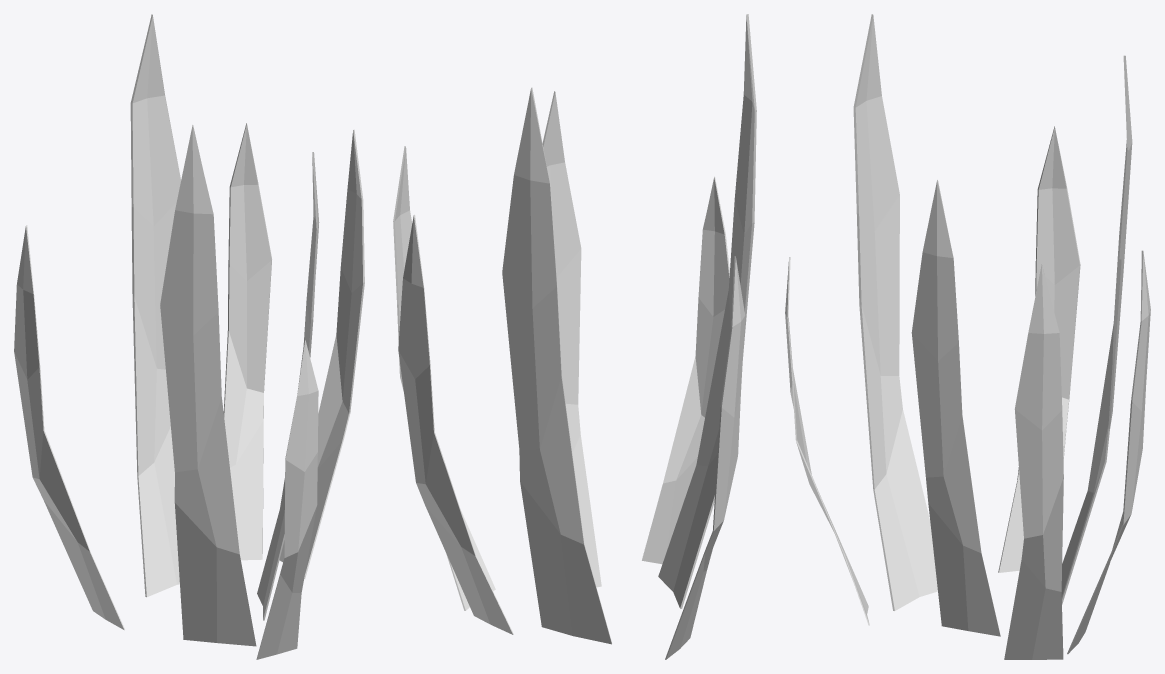
File: Chard_1.fbx
3 renders of one model, left to right at view 1: azimuth 30°, elevation 25°; view 2: azimuth 150°, elevation 25°; view 3: azimuth 270°, elevation 25°, orthographic. The views are drawn at different scales.
Visible parts, largest first — view 1: 1_Chard; view 2: 1_Chard; view 3: 1_Chard.
Boxes of the visible parts, x1=… form: 1_Chard: x1=14, y1=14, x2=364, y2=659; 1_Chard: x1=393, y1=14, x2=756, y2=659; 1_Chard: x1=785, y1=14, x2=1150, y2=659.
Size of the model in its own units: 2.47 by 3.93 by 2.32.
